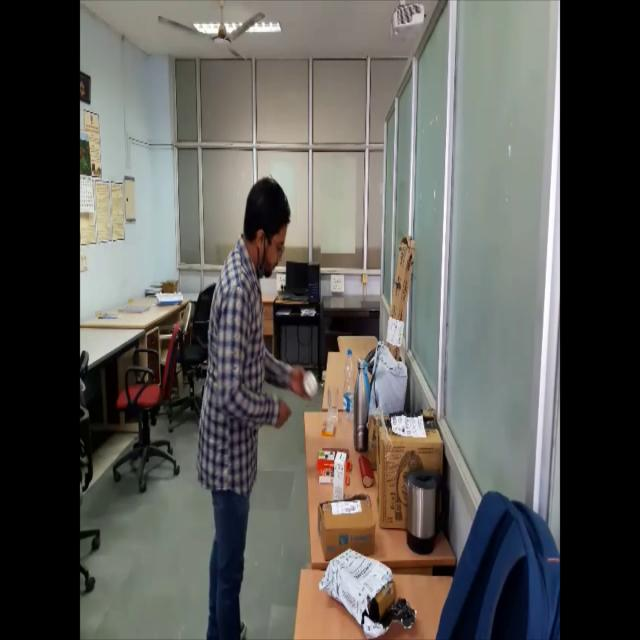normal: (190, 172, 322, 640)
